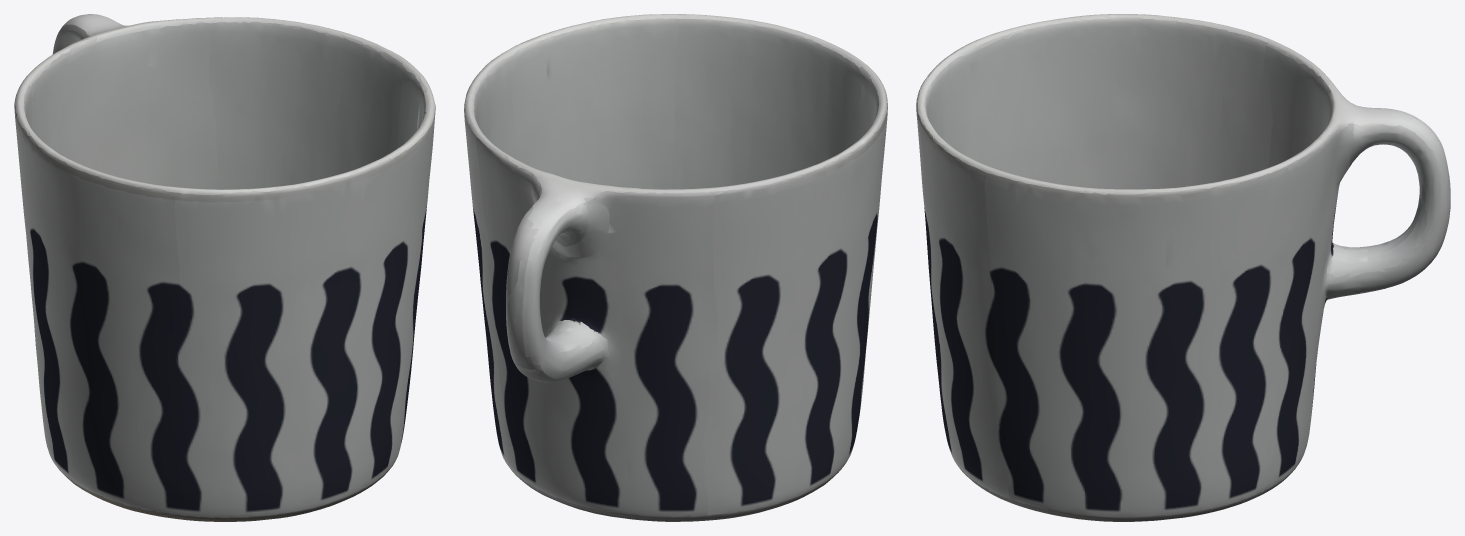
The picture shows the model from 3 angles, left to right: view 1: azimuth 30°, elevation 25°; view 2: azimuth 150°, elevation 25°; view 3: azimuth 270°, elevation 25°; orthographic projection.
Parts seen in each view (by area): view 1: geometry_0; view 2: geometry_0; view 3: geometry_0.
Boxes of the visible parts, x1,y1,x2,y2 form: geometry_0: (14, 14, 435, 521); geometry_0: (464, 14, 887, 521); geometry_0: (916, 14, 1450, 521).
Size of the model in its own units: 1.59 by 1.45 by 2.
Materials: 1 (1 with a texture image).
